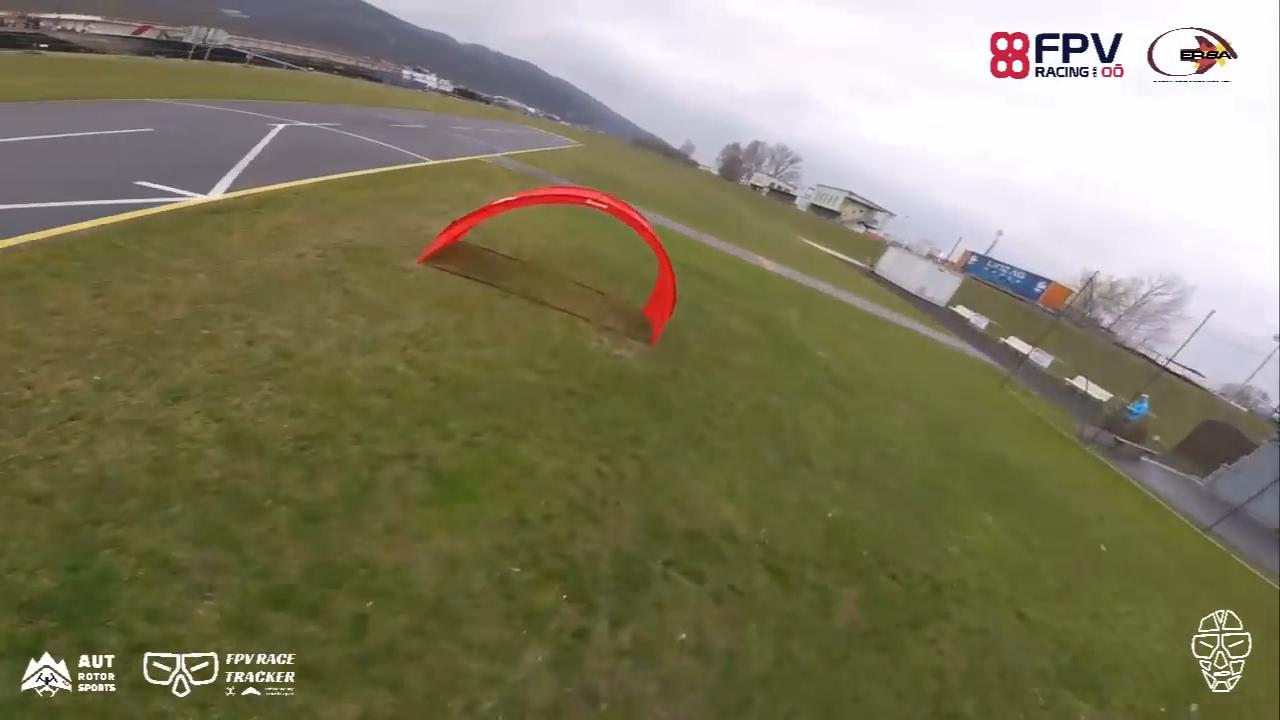gate: (416, 178, 682, 348)
